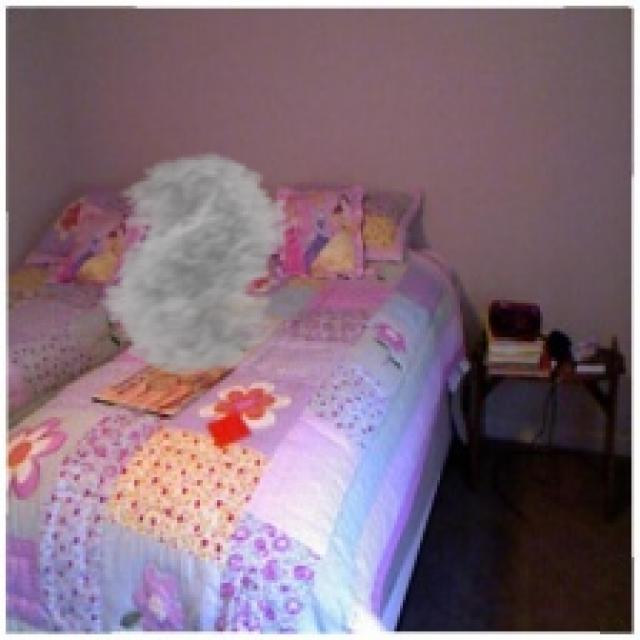smoke: (83, 152, 314, 377)
